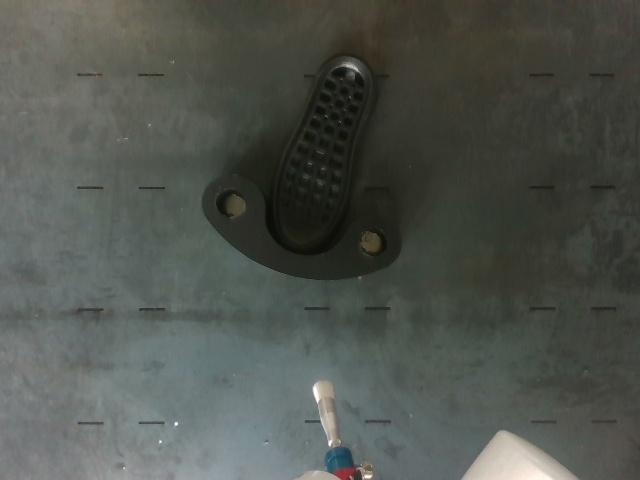shoes: (274, 56, 372, 249)
